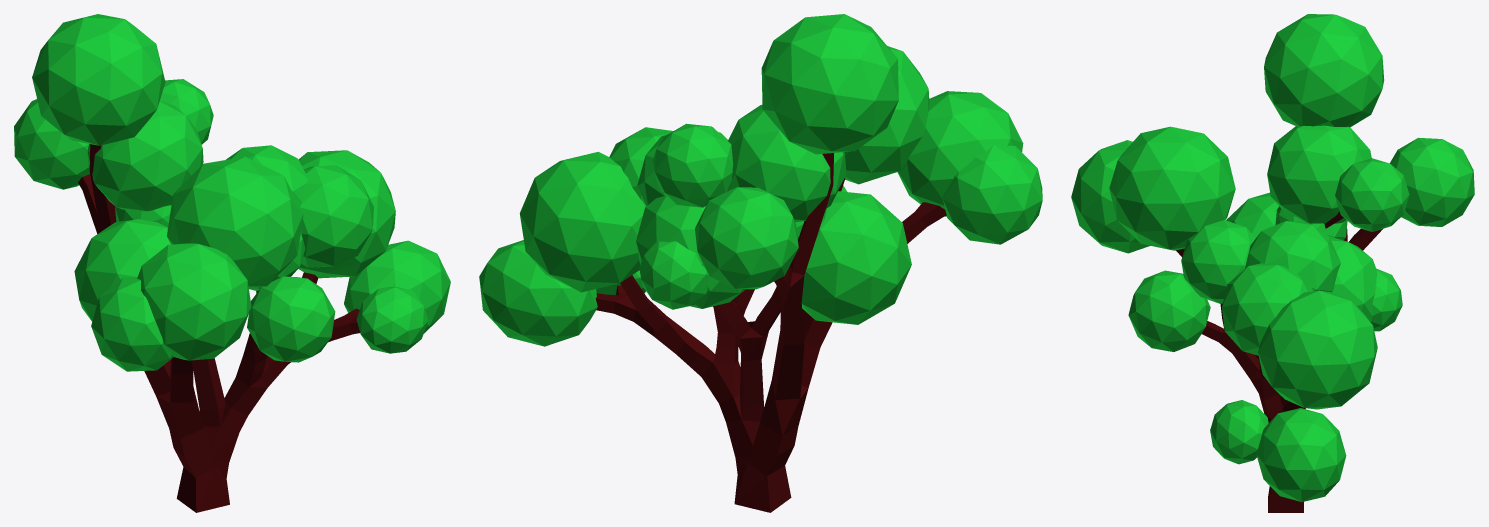
File: Tree02GreenMedium-byKW.glb
The picture shows the model from 3 angles, left to right: view 1: azimuth 30°, elevation 25°; view 2: azimuth 150°, elevation 25°; view 3: azimuth 270°, elevation 25°; orthographic projection. The views are drawn at different scales.
Parts seen in each view (by area): view 1: Stem.013, Leaf.005, Leaf.004, Leaf, Leaf.002, Leaf.014, Leaf.011, Leaf.001, Leaf.007, Leaf.016, Leaf.006, Leaf.015 (+4 smaller); view 2: Stem.013, Leaf.005, Leaf.015, Leaf.007, Leaf.006, Leaf.016, Leaf, Leaf.001, Leaf.002, Leaf.003, Leaf.004, Leaf.009 (+3 smaller); view 3: Leaf.004, Leaf.005, Leaf.015, Leaf.002, Leaf.016, Leaf.006, Leaf.011, Leaf.014, Leaf.013, Leaf.003, Leaf.012, Leaf (+6 smaller).
Boxes of the visible parts, <box> form: Stem.013: <box>78,144,360,512</box>; Leaf.005: <box>32,14,165,145</box>; Leaf.004: <box>167,156,303,289</box>; Leaf: <box>137,243,251,360</box>; Leaf.002: <box>87,100,203,211</box>; Leaf.014: <box>300,165,373,267</box>; Leaf.011: <box>247,276,335,362</box>; Leaf.001: <box>91,277,173,371</box>; Leaf.007: <box>74,219,170,321</box>; Leaf.016: <box>344,240,450,333</box>; Leaf.006: <box>14,99,89,189</box>; Leaf.015: <box>298,150,395,278</box>; Stem.013: <box>595,153,946,512</box>; Leaf.005: <box>761,14,898,154</box>; Leaf.015: <box>519,151,645,292</box>; Leaf.007: <box>801,191,911,324</box>; Leaf.006: <box>695,187,798,289</box>; Leaf.016: <box>479,240,597,346</box>; Leaf: <box>897,91,1023,216</box>; Leaf.001: <box>942,145,1042,244</box>; Leaf.002: <box>728,105,846,222</box>; Leaf.003: <box>652,123,733,207</box>; Leaf.004: <box>844,46,929,184</box>; Leaf.009: <box>639,241,708,309</box>; Leaf.004: <box>1109,126,1235,250</box>; Leaf.005: <box>1264,14,1384,127</box>; Leaf.015: <box>1258,290,1377,409</box>; Leaf.002: <box>1267,125,1371,223</box>; Leaf.016: <box>1256,408,1346,501</box>; Leaf.006: <box>1389,137,1474,226</box>; Leaf.011: <box>1128,270,1210,351</box>; Leaf.014: <box>1222,263,1313,355</box>; Leaf.013: <box>1245,221,1340,292</box>; Leaf.003: <box>1335,158,1409,231</box>; Leaf.012: <box>1181,220,1255,303</box>; Leaf: <box>1071,140,1150,253</box>.
Size of the model in its own units: 39.32 by 42.31 by 34.47.
